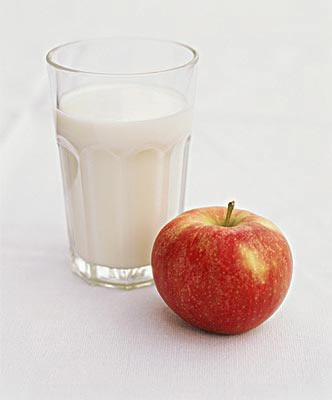apple: (146, 205, 292, 339)
